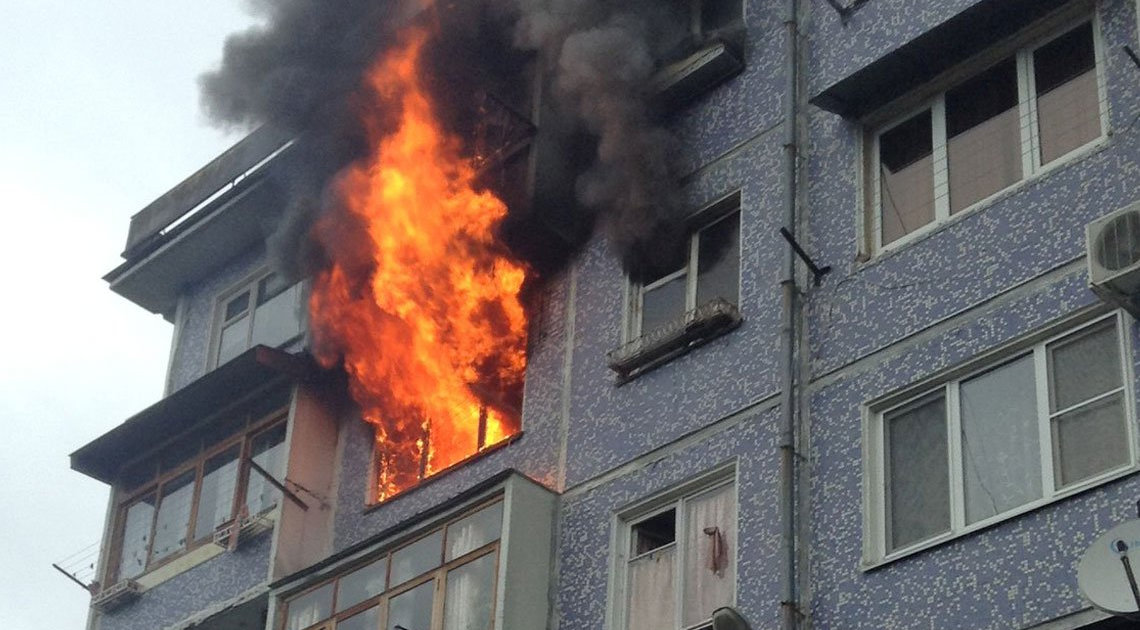fire: (218, 3, 694, 487)
